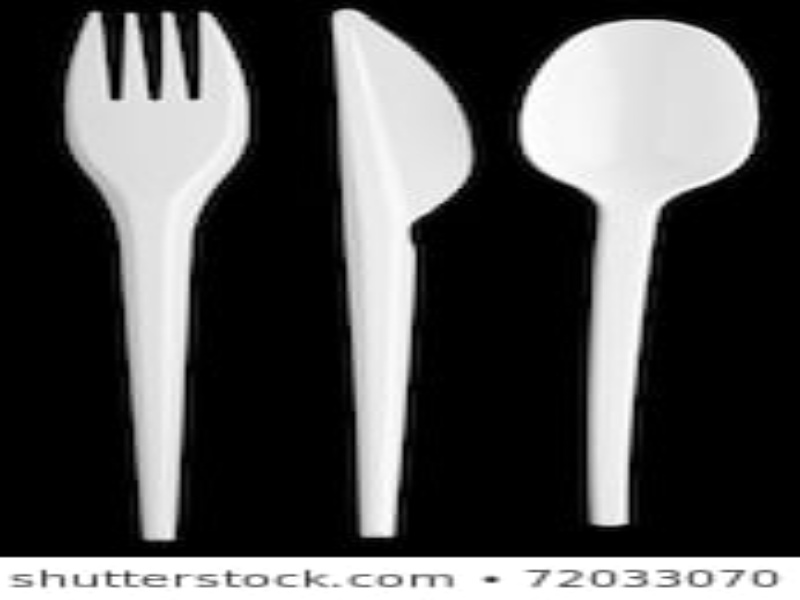plastic-silverware: (509, 11, 765, 535), (59, 9, 258, 548), (315, 7, 476, 541)
